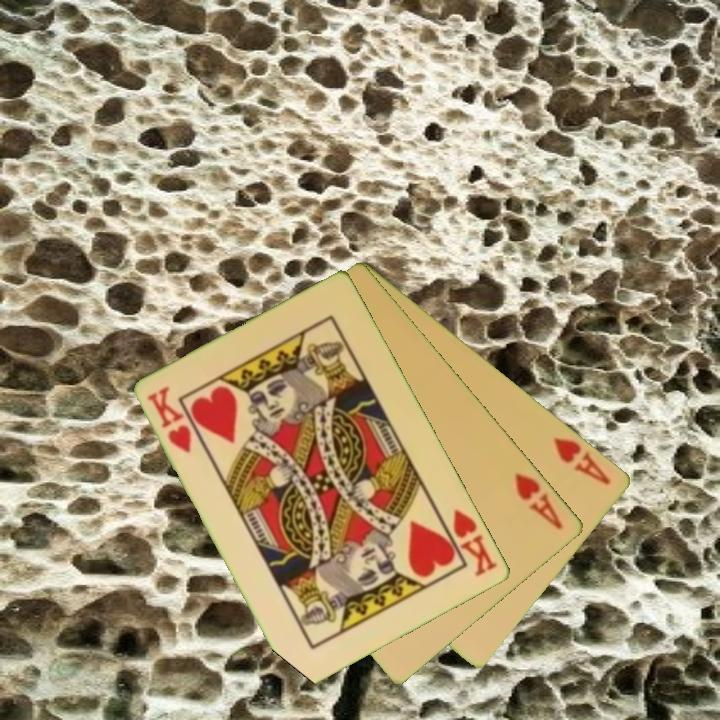Ah: (512, 469, 567, 533), (551, 433, 614, 488)
Kh: (436, 505, 501, 580), (144, 382, 196, 457)
